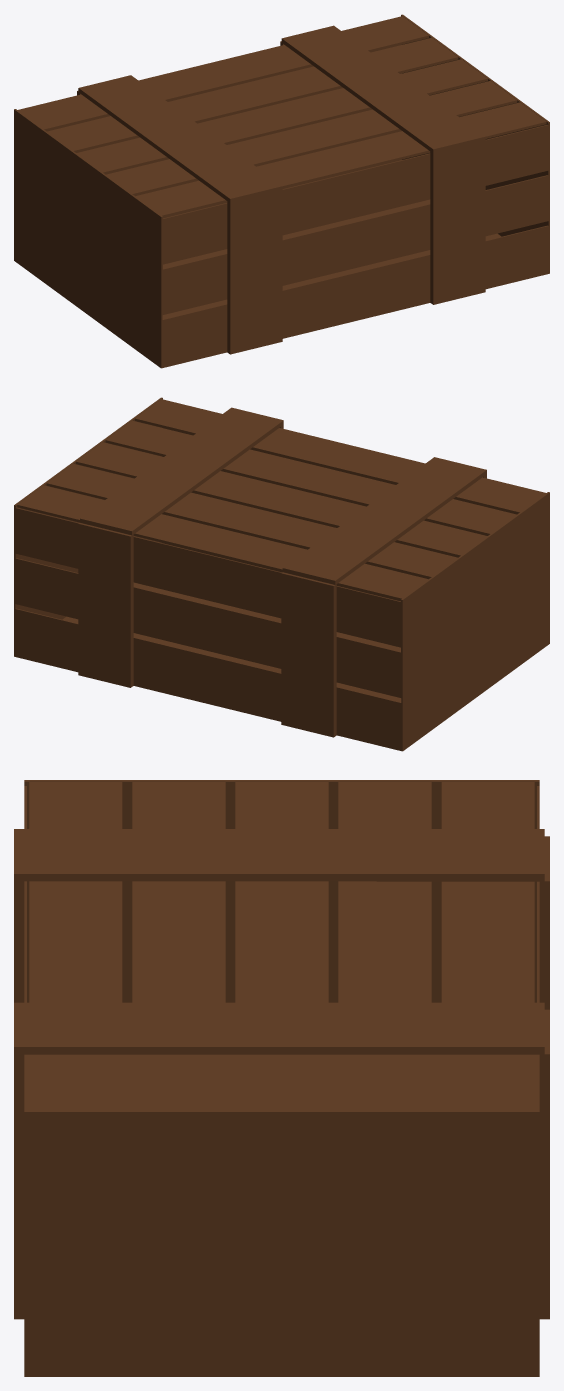
File: Crate2.fbx
The picture shows the model from 3 angles, top to bottom: view 1: azimuth 30°, elevation 25°; view 2: azimuth 150°, elevation 25°; view 3: azimuth 270°, elevation 25°; orthographic projection. The views are drawn at different scales.
Parts seen in each view (by area): view 1: Crate 2; view 2: Crate 2; view 3: Crate 2.
Boxes of the visible parts, x1,y1,x2,y2 form: Crate 2: (14,14,549,368); Crate 2: (14,397,549,751); Crate 2: (14,780,549,1376).
Bounding box in the file's own units: 96.95 × 37.09 × 66.16.
